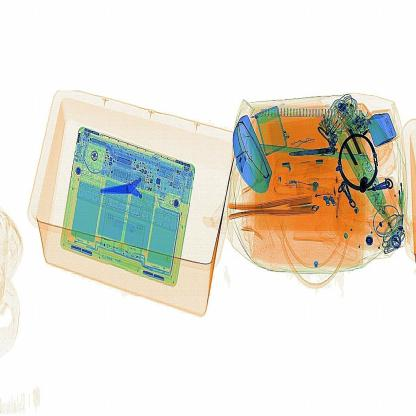gun: (94, 166, 167, 221)
